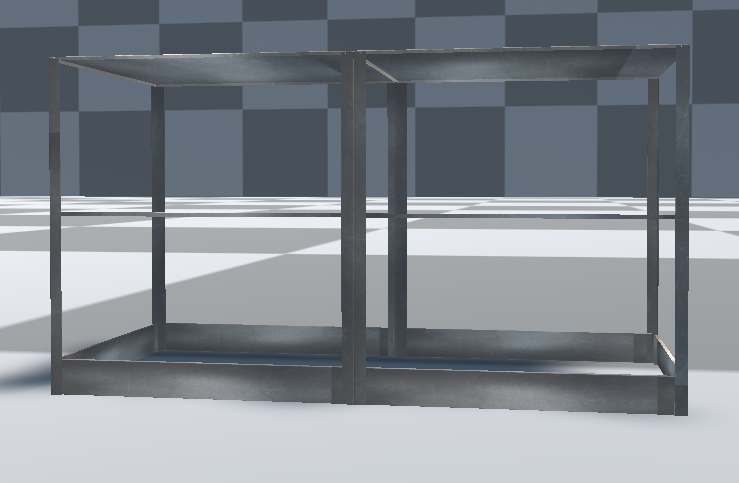Rack: (47, 40, 690, 418)
